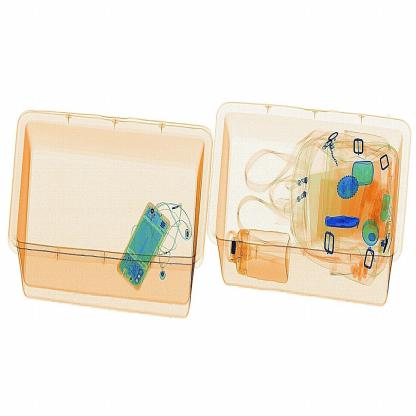knife: (327, 214, 364, 234)
